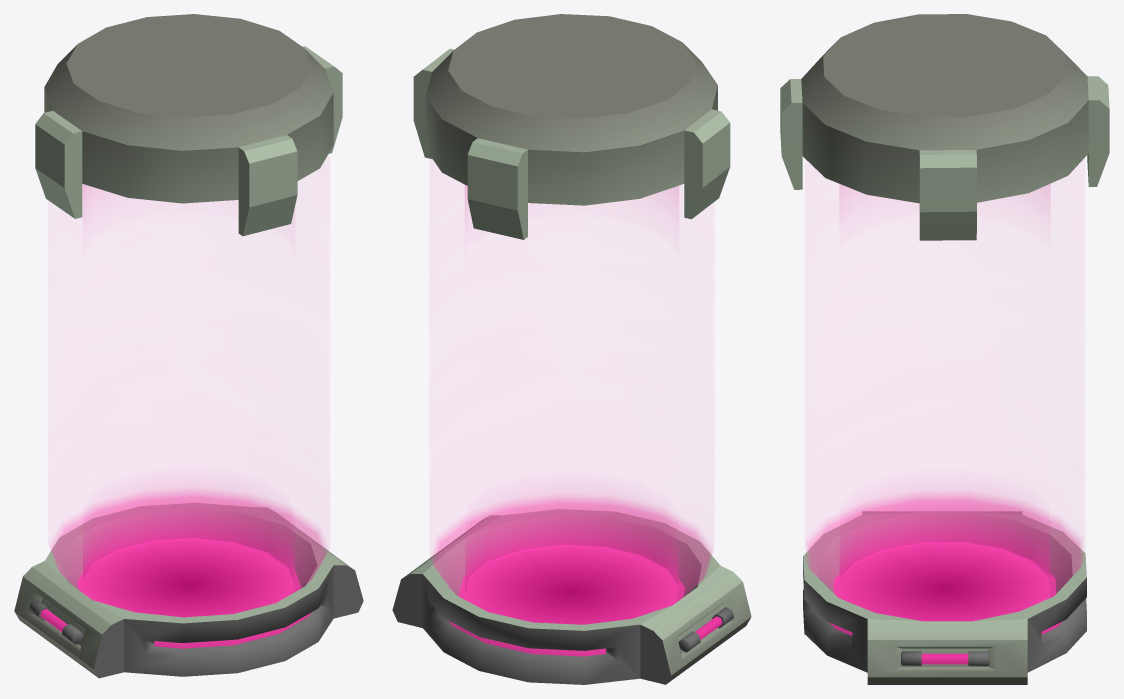
File: fashion_base.gltf
The picture shows the model from 3 angles, left to right: view 1: azimuth 30°, elevation 25°; view 2: azimuth 150°, elevation 25°; view 3: azimuth 270°, elevation 25°; orthographic projection.
Visible parts, largest first — view 1: fashion_base, fashion_base_light_bottom; view 2: fashion_base, fashion_base_light_bottom; view 3: fashion_base, fashion_base_light_bottom.
Boxes of the visible parts, box(x1,y1,x2,y2) form: fashion_base: box(14, 14, 363, 678); fashion_base_light_bottom: box(83, 490, 294, 583); fashion_base: box(392, 14, 751, 684); fashion_base_light_bottom: box(465, 497, 678, 592); fashion_base: box(780, 14, 1109, 684); fashion_base_light_bottom: box(839, 494, 1050, 590).
Size of what is drawn, in the model's own units: 2.77 by 5.41 by 2.77.
3 materials, 3 textured.
